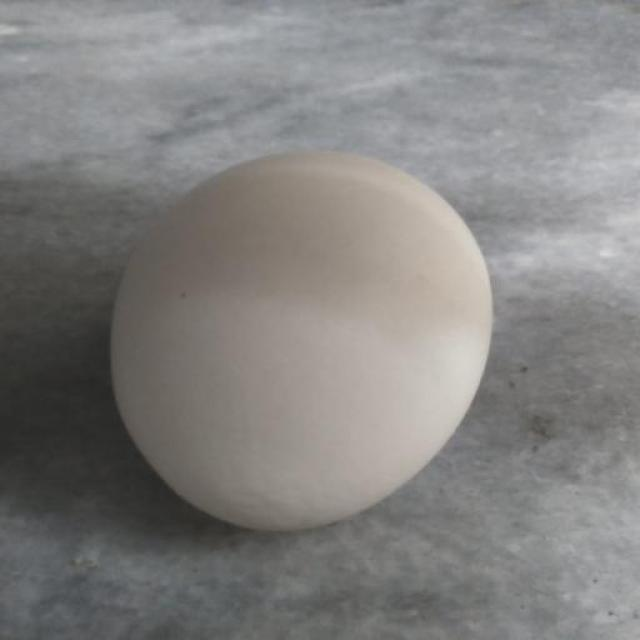telur: (94, 135, 506, 538)
